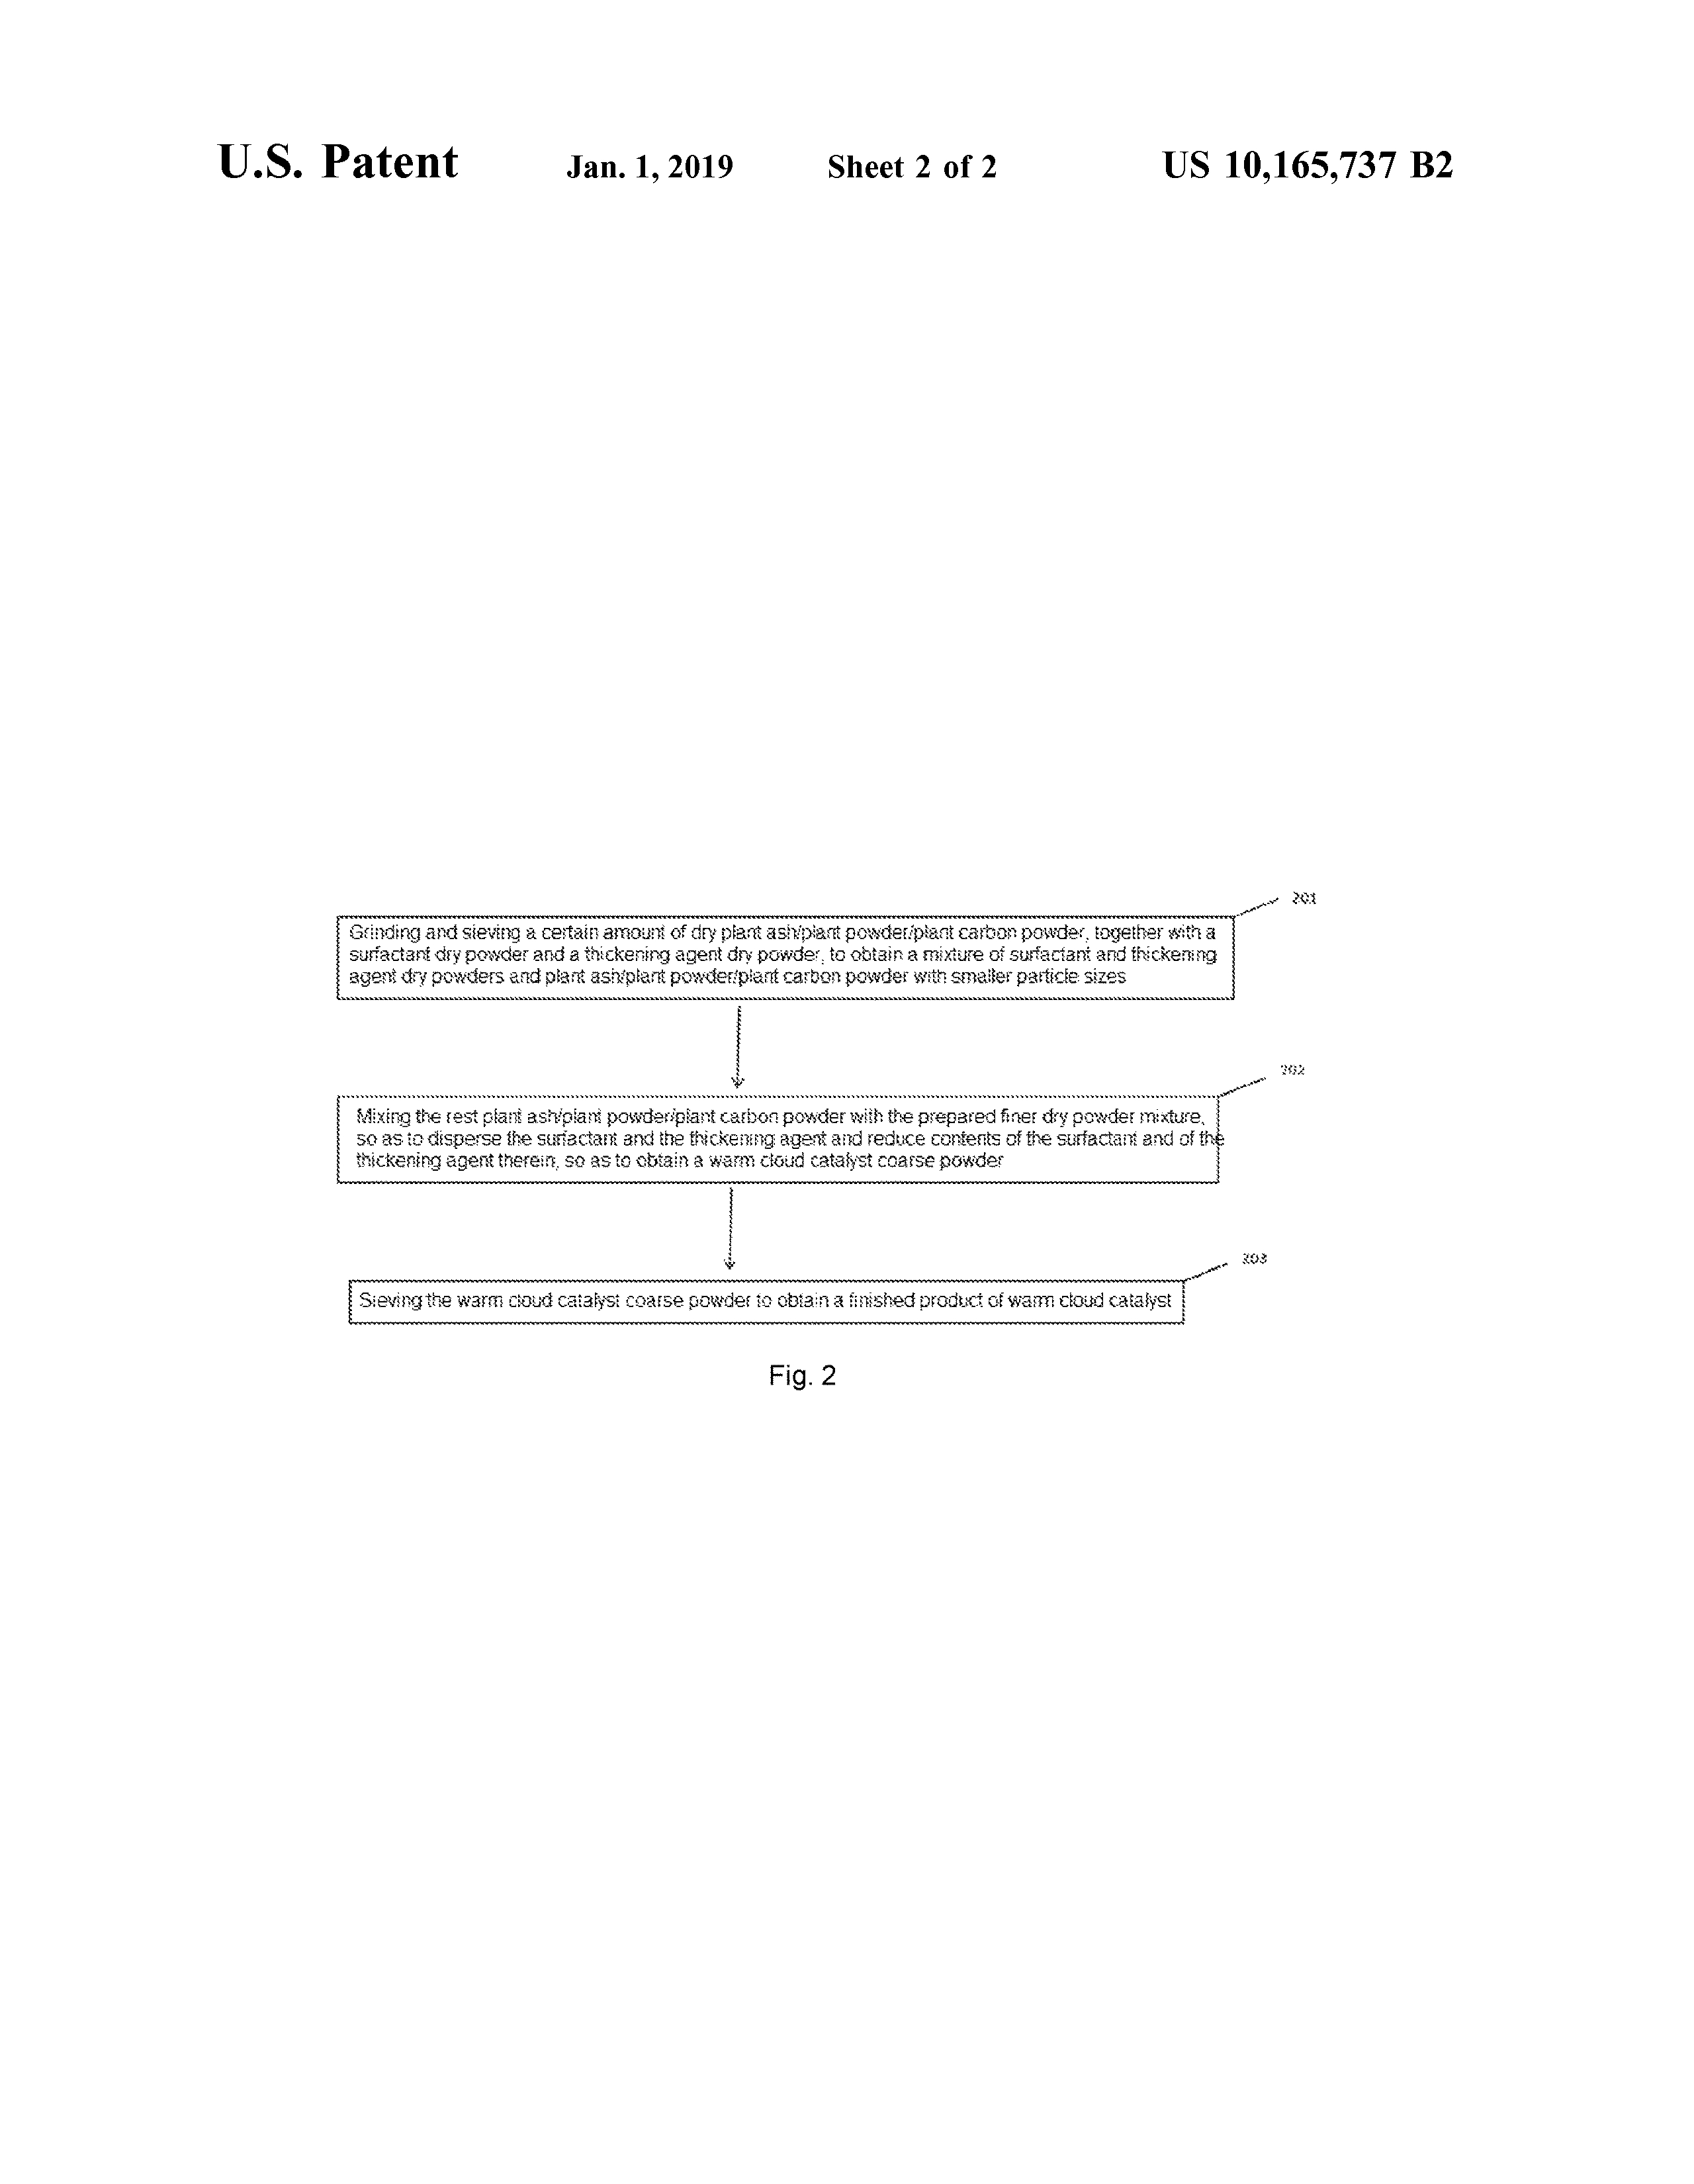patent image: (279, 811, 1360, 1459)
